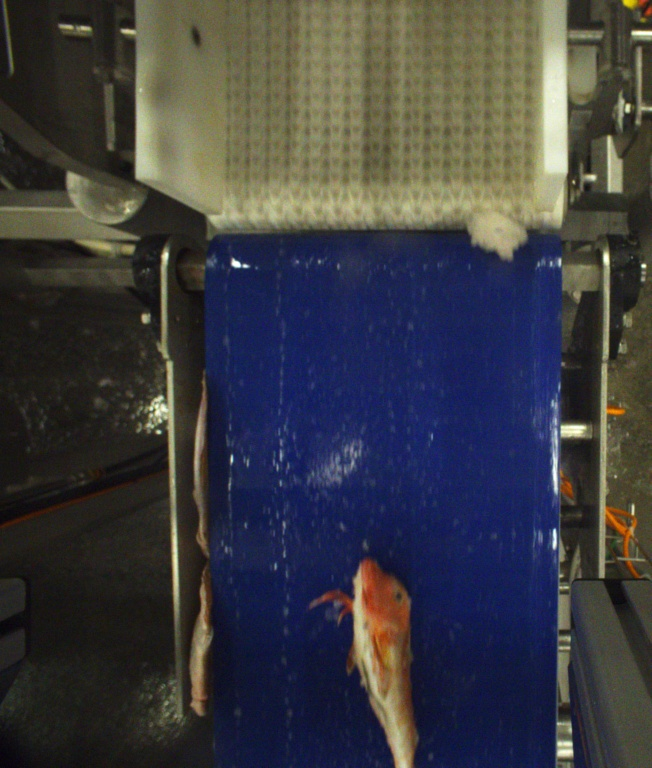GUU: (316, 559, 423, 768)
